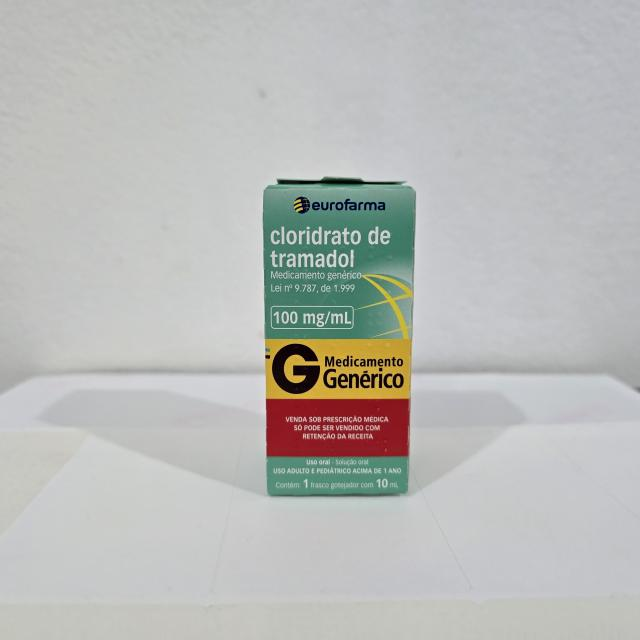tramadol: (259, 173, 419, 499)
